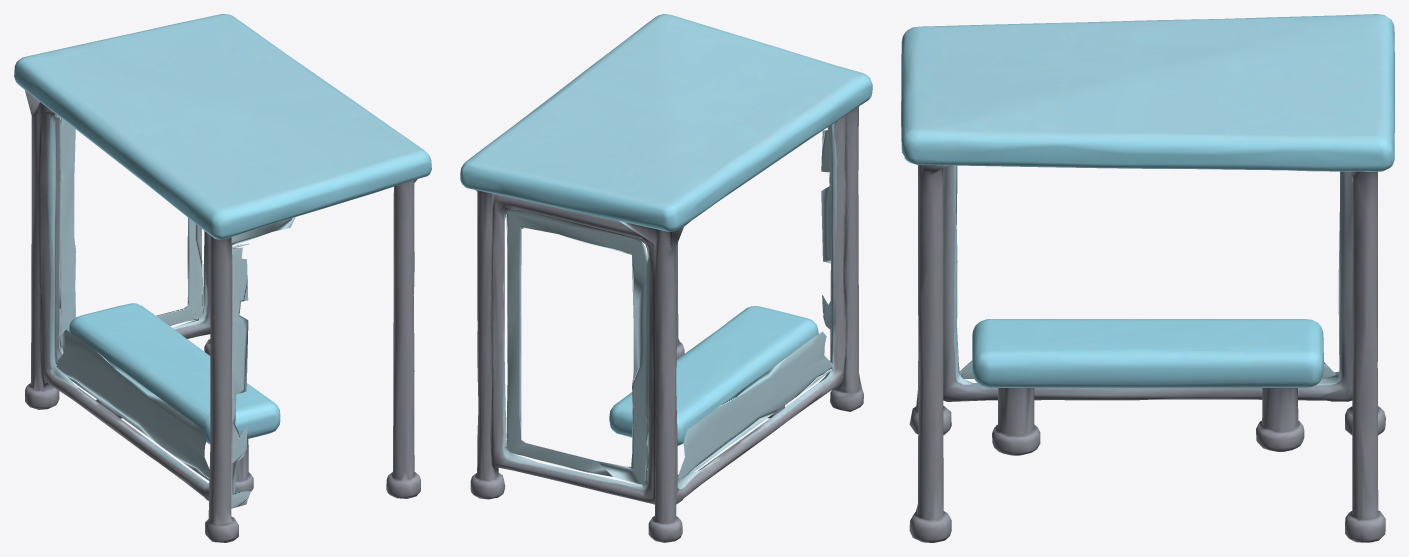
The model's file is bus_shelter.glb.
The picture shows the model from 3 angles, left to right: view 1: azimuth 30°, elevation 25°; view 2: azimuth 150°, elevation 25°; view 3: azimuth 270°, elevation 25°; orthographic projection. The views are drawn at different scales.
Parts seen in each view (by area): view 1: tripo_node_e625eea6-8e61-4535-8a24-834a0eb16d30; view 2: tripo_node_e625eea6-8e61-4535-8a24-834a0eb16d30; view 3: tripo_node_e625eea6-8e61-4535-8a24-834a0eb16d30.
Boxes of the visible parts, bbox=[...] form: tripo_node_e625eea6-8e61-4535-8a24-834a0eb16d30: bbox=[14, 14, 431, 542]; tripo_node_e625eea6-8e61-4535-8a24-834a0eb16d30: bbox=[460, 14, 872, 542]; tripo_node_e625eea6-8e61-4535-8a24-834a0eb16d30: bbox=[901, 14, 1394, 542].
Size of the model in its own units: 0.6031 by 0.901 by 0.9791.
Materials: 1 (1 with a texture image).
